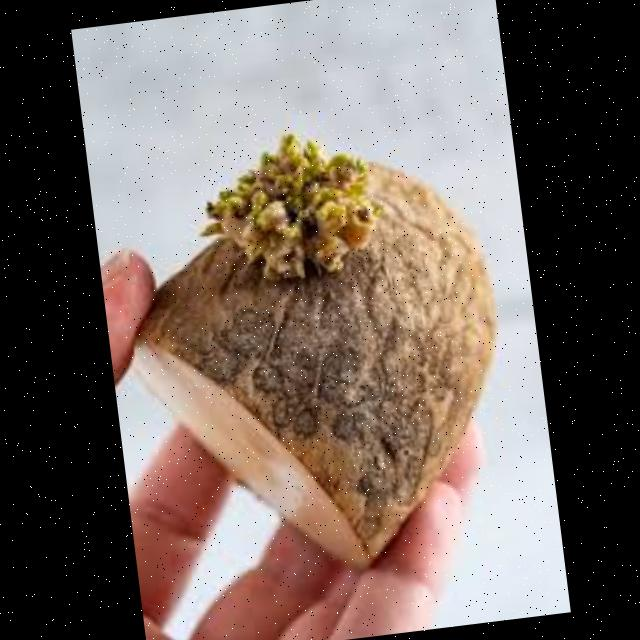Sprouted potato: (104, 107, 530, 594)
